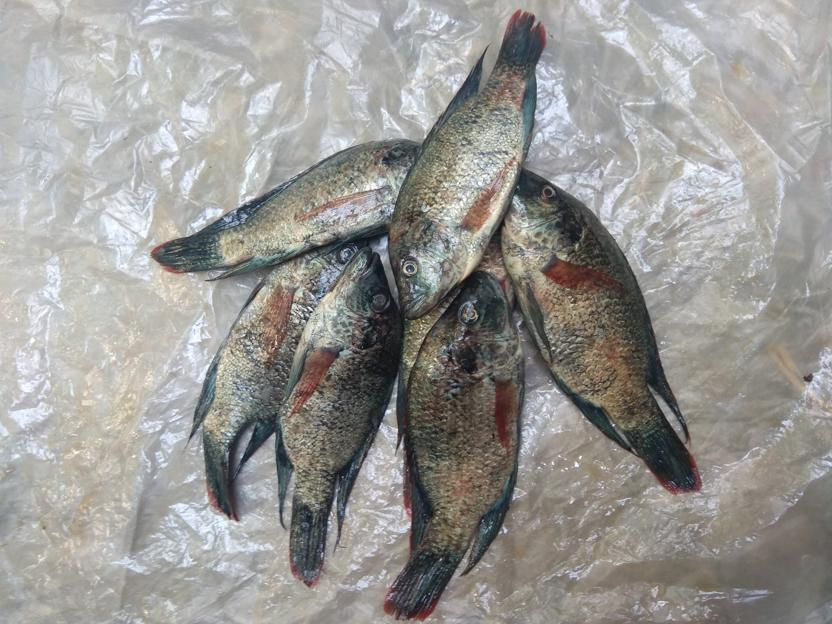Fish head: (439, 270, 524, 375), (499, 167, 592, 261), (386, 219, 471, 319), (321, 248, 401, 353), (294, 242, 362, 296)
Fish tail: (381, 530, 472, 622), (622, 408, 703, 495), (199, 423, 242, 523), (286, 499, 332, 589), (496, 7, 547, 80), (150, 229, 225, 273)
